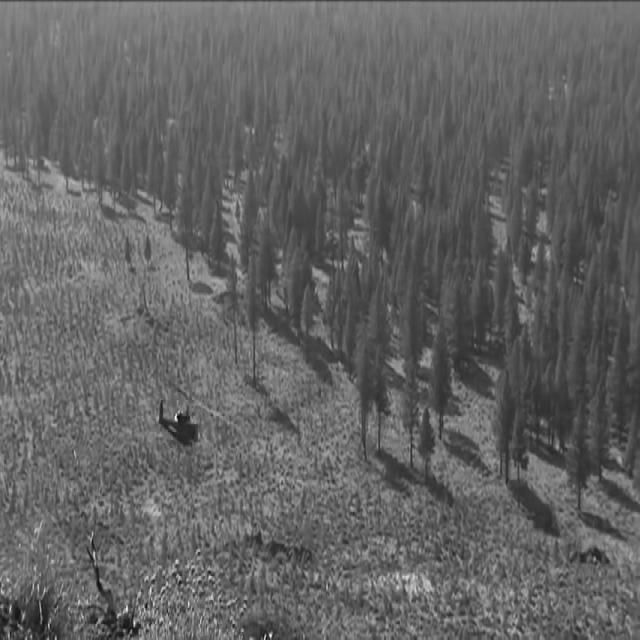helikopter: (135, 369, 230, 476)
